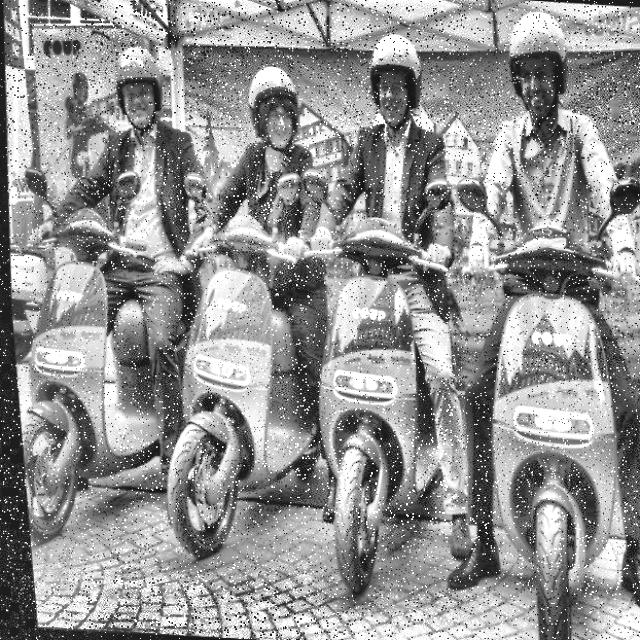Helmet: (499, 6, 574, 123), (361, 30, 427, 133), (239, 60, 304, 157), (105, 43, 168, 141)
